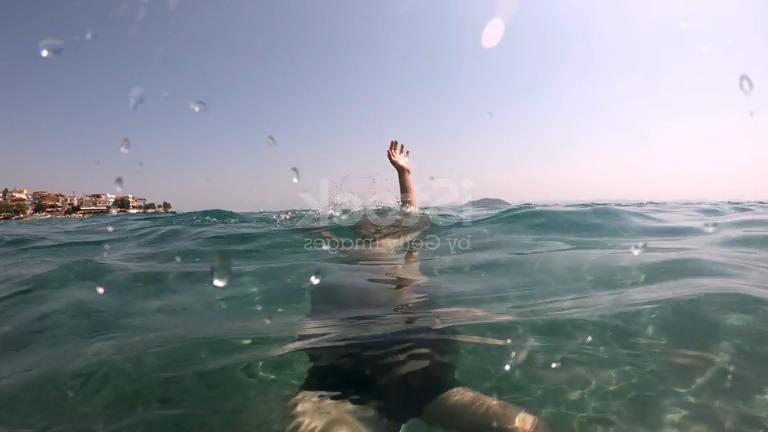Drowning: (200, 88, 562, 379)
